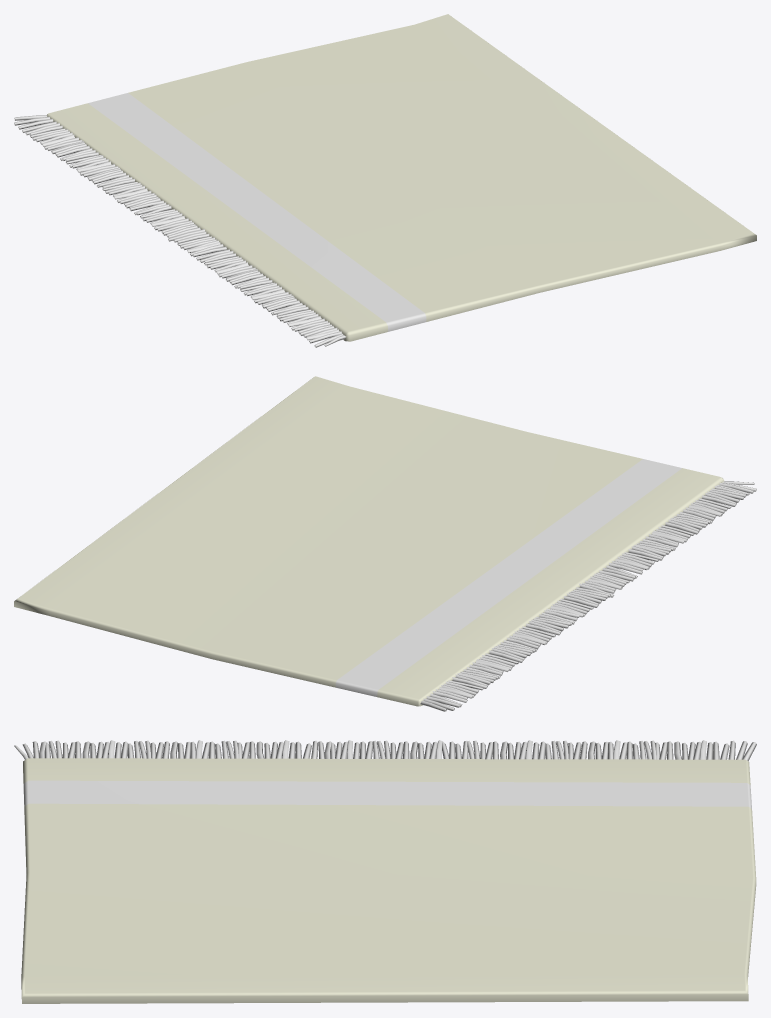
File: Rug Large Square Half.fbx
The picture shows the model from 3 angles, top to bottom: view 1: azimuth 30°, elevation 25°; view 2: azimuth 150°, elevation 25°; view 3: azimuth 270°, elevation 25°; orthographic projection. The views are drawn at different scales.
Parts seen in each view (by area): view 1: Rug_Large_Square_Half; view 2: Rug_Large_Square_Half; view 3: Rug_Large_Square_Half.
Part boxes in pixels (x1=…): Rug_Large_Square_Half: x1=14, y1=14, x2=756, y2=347; Rug_Large_Square_Half: x1=14, y1=376, x2=756, y2=711; Rug_Large_Square_Half: x1=14, y1=740, x2=756, y2=1003.
Size of the model in its own units: 2.22 by 0.0468 by 2.7.
